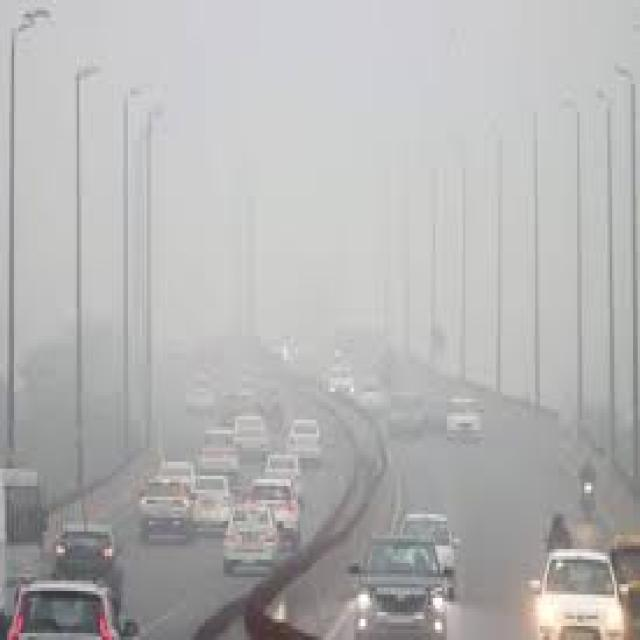moderate_traffic: (67, 320, 314, 639)
no-low traffic: (316, 308, 519, 640)
